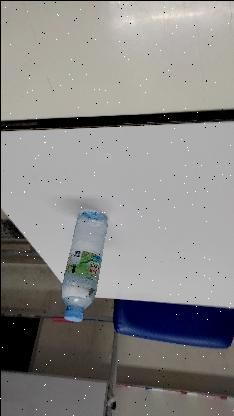Plastic Bottle: (58, 204, 110, 326)
